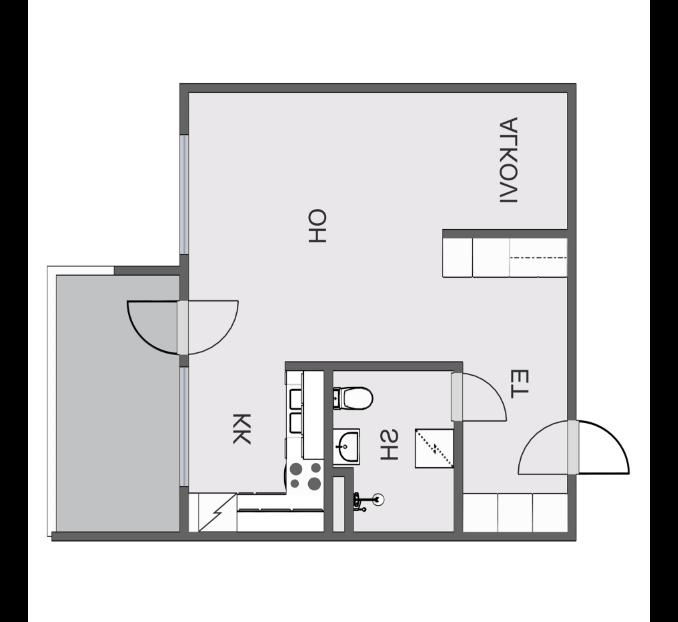door: (124, 296, 192, 358), (567, 415, 632, 478), (178, 293, 241, 357), (514, 416, 579, 478), (450, 367, 510, 424)
window: (174, 362, 194, 490), (177, 125, 193, 261)
